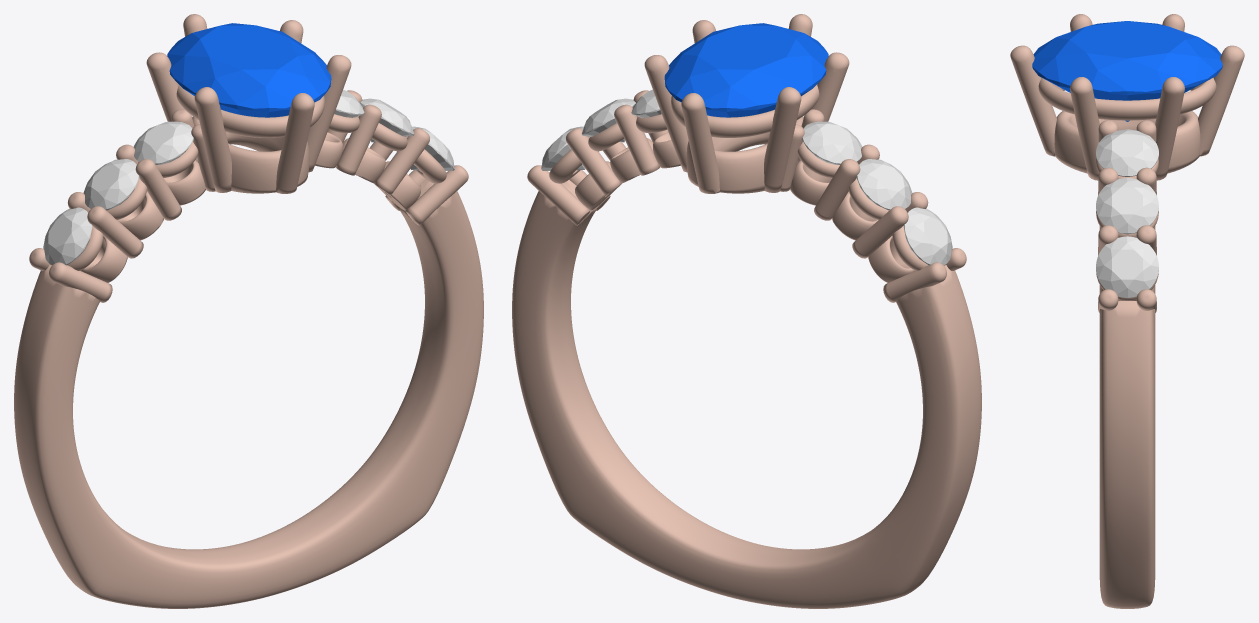
Rendered from bluesapphire-oval-rosegold-6prong-europeanshank-7stone.glb.
3 views of the same model, side by side, from view 1: azimuth 30°, elevation 25°; view 2: azimuth 150°, elevation 25°; view 3: azimuth 270°, elevation 25° (orthographic). The views are drawn at different scales.
Visible parts, largest first — view 1: metal, stone.001, side.012, side.013, side.014, side.016, side.015; view 2: metal, stone.001, side.012, side.013, side.014, side.016, side.015; view 3: metal, stone.001, side.015, side.016, side.017.
Boxes of the visible parts, left/top/right/bottom form: metal: left=14, top=14, right=483, bottom=608; stone.001: left=167, top=23, right=331, bottom=117; side.012: left=43, top=207, right=92, bottom=265; side.013: left=83, top=159, right=139, bottom=210; side.014: left=133, top=121, right=193, bottom=164; side.016: left=360, top=98, right=413, bottom=142; side.015: left=410, top=126, right=454, bottom=170; metal: left=512, top=14, right=981, bottom=608; stone.001: left=664, top=23, right=828, bottom=117; side.012: left=903, top=207, right=952, bottom=265; side.013: left=856, top=159, right=912, bottom=210; side.014: left=802, top=121, right=862, bottom=164; side.016: left=582, top=98, right=635, bottom=142; side.015: left=541, top=126, right=585, bottom=170; metal: left=1010, top=14, right=1244, bottom=608; stone.001: left=1032, top=21, right=1222, bottom=121; side.015: left=1096, top=236, right=1158, bottom=297; side.016: left=1096, top=178, right=1158, bottom=234; side.017: left=1096, top=129, right=1158, bottom=176.
Size of the model in its own units: 20.11 by 23.21 by 9.29.
